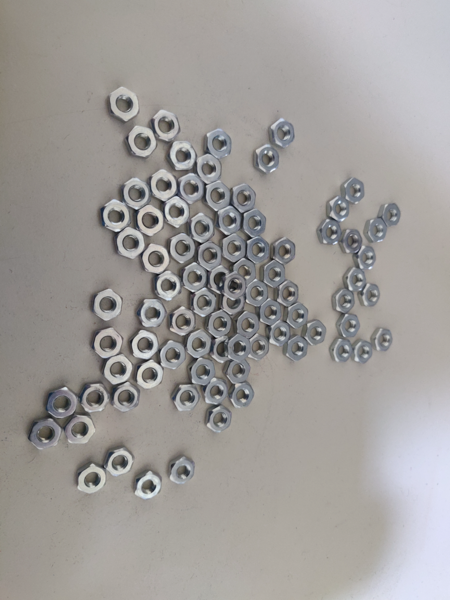nut: (112, 226, 146, 260), (108, 87, 139, 122), (125, 125, 156, 159), (45, 388, 80, 418), (148, 168, 177, 203), (26, 419, 61, 448), (64, 413, 96, 444), (167, 139, 197, 172), (75, 464, 108, 494), (93, 289, 123, 320), (92, 328, 123, 358), (101, 199, 130, 231), (141, 242, 170, 274), (176, 174, 205, 205), (80, 382, 109, 413), (189, 211, 216, 244), (110, 382, 140, 411), (203, 405, 233, 434), (152, 110, 180, 141), (136, 206, 164, 237), (203, 130, 232, 159), (167, 234, 196, 263), (129, 331, 159, 359), (122, 178, 149, 209), (103, 356, 134, 383), (131, 472, 162, 499), (269, 116, 295, 148), (173, 382, 199, 414), (189, 289, 218, 317), (189, 359, 217, 388), (134, 362, 164, 389), (158, 341, 186, 369), (138, 300, 167, 327), (186, 331, 215, 358), (254, 144, 280, 174), (182, 263, 208, 293), (167, 458, 197, 484), (230, 183, 256, 212), (197, 241, 223, 270), (154, 272, 180, 301), (261, 259, 287, 288), (108, 450, 135, 477), (206, 310, 233, 337), (245, 235, 271, 263), (231, 381, 257, 409), (186, 330, 211, 359), (165, 198, 189, 228), (212, 334, 236, 364), (205, 183, 230, 211), (227, 334, 252, 362), (204, 379, 229, 407), (218, 205, 240, 236), (284, 335, 310, 361), (317, 220, 343, 246), (196, 157, 221, 184), (169, 308, 194, 335), (225, 360, 252, 385), (221, 235, 246, 261), (241, 211, 266, 237), (257, 299, 283, 324), (267, 321, 291, 348), (341, 176, 365, 203), (334, 315, 361, 339), (236, 311, 260, 337), (371, 327, 395, 353), (273, 237, 296, 264), (304, 318, 327, 345), (232, 260, 256, 285), (330, 339, 354, 364), (344, 267, 367, 293), (326, 196, 350, 220), (352, 340, 376, 364), (274, 283, 299, 306), (223, 275, 246, 300), (208, 267, 231, 292), (245, 281, 267, 307), (287, 302, 308, 328), (248, 335, 269, 361), (364, 221, 387, 244), (221, 292, 245, 314), (360, 283, 382, 307), (380, 204, 402, 226), (355, 248, 377, 270), (332, 292, 356, 312)
